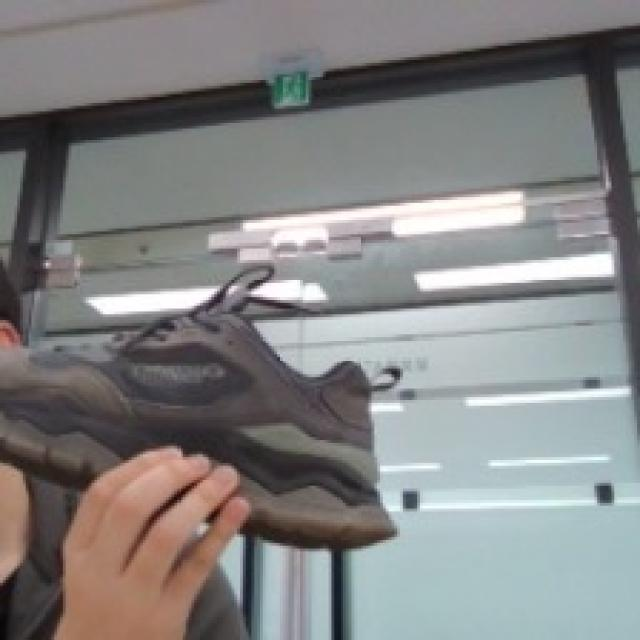shoes: (0, 257, 412, 548)
